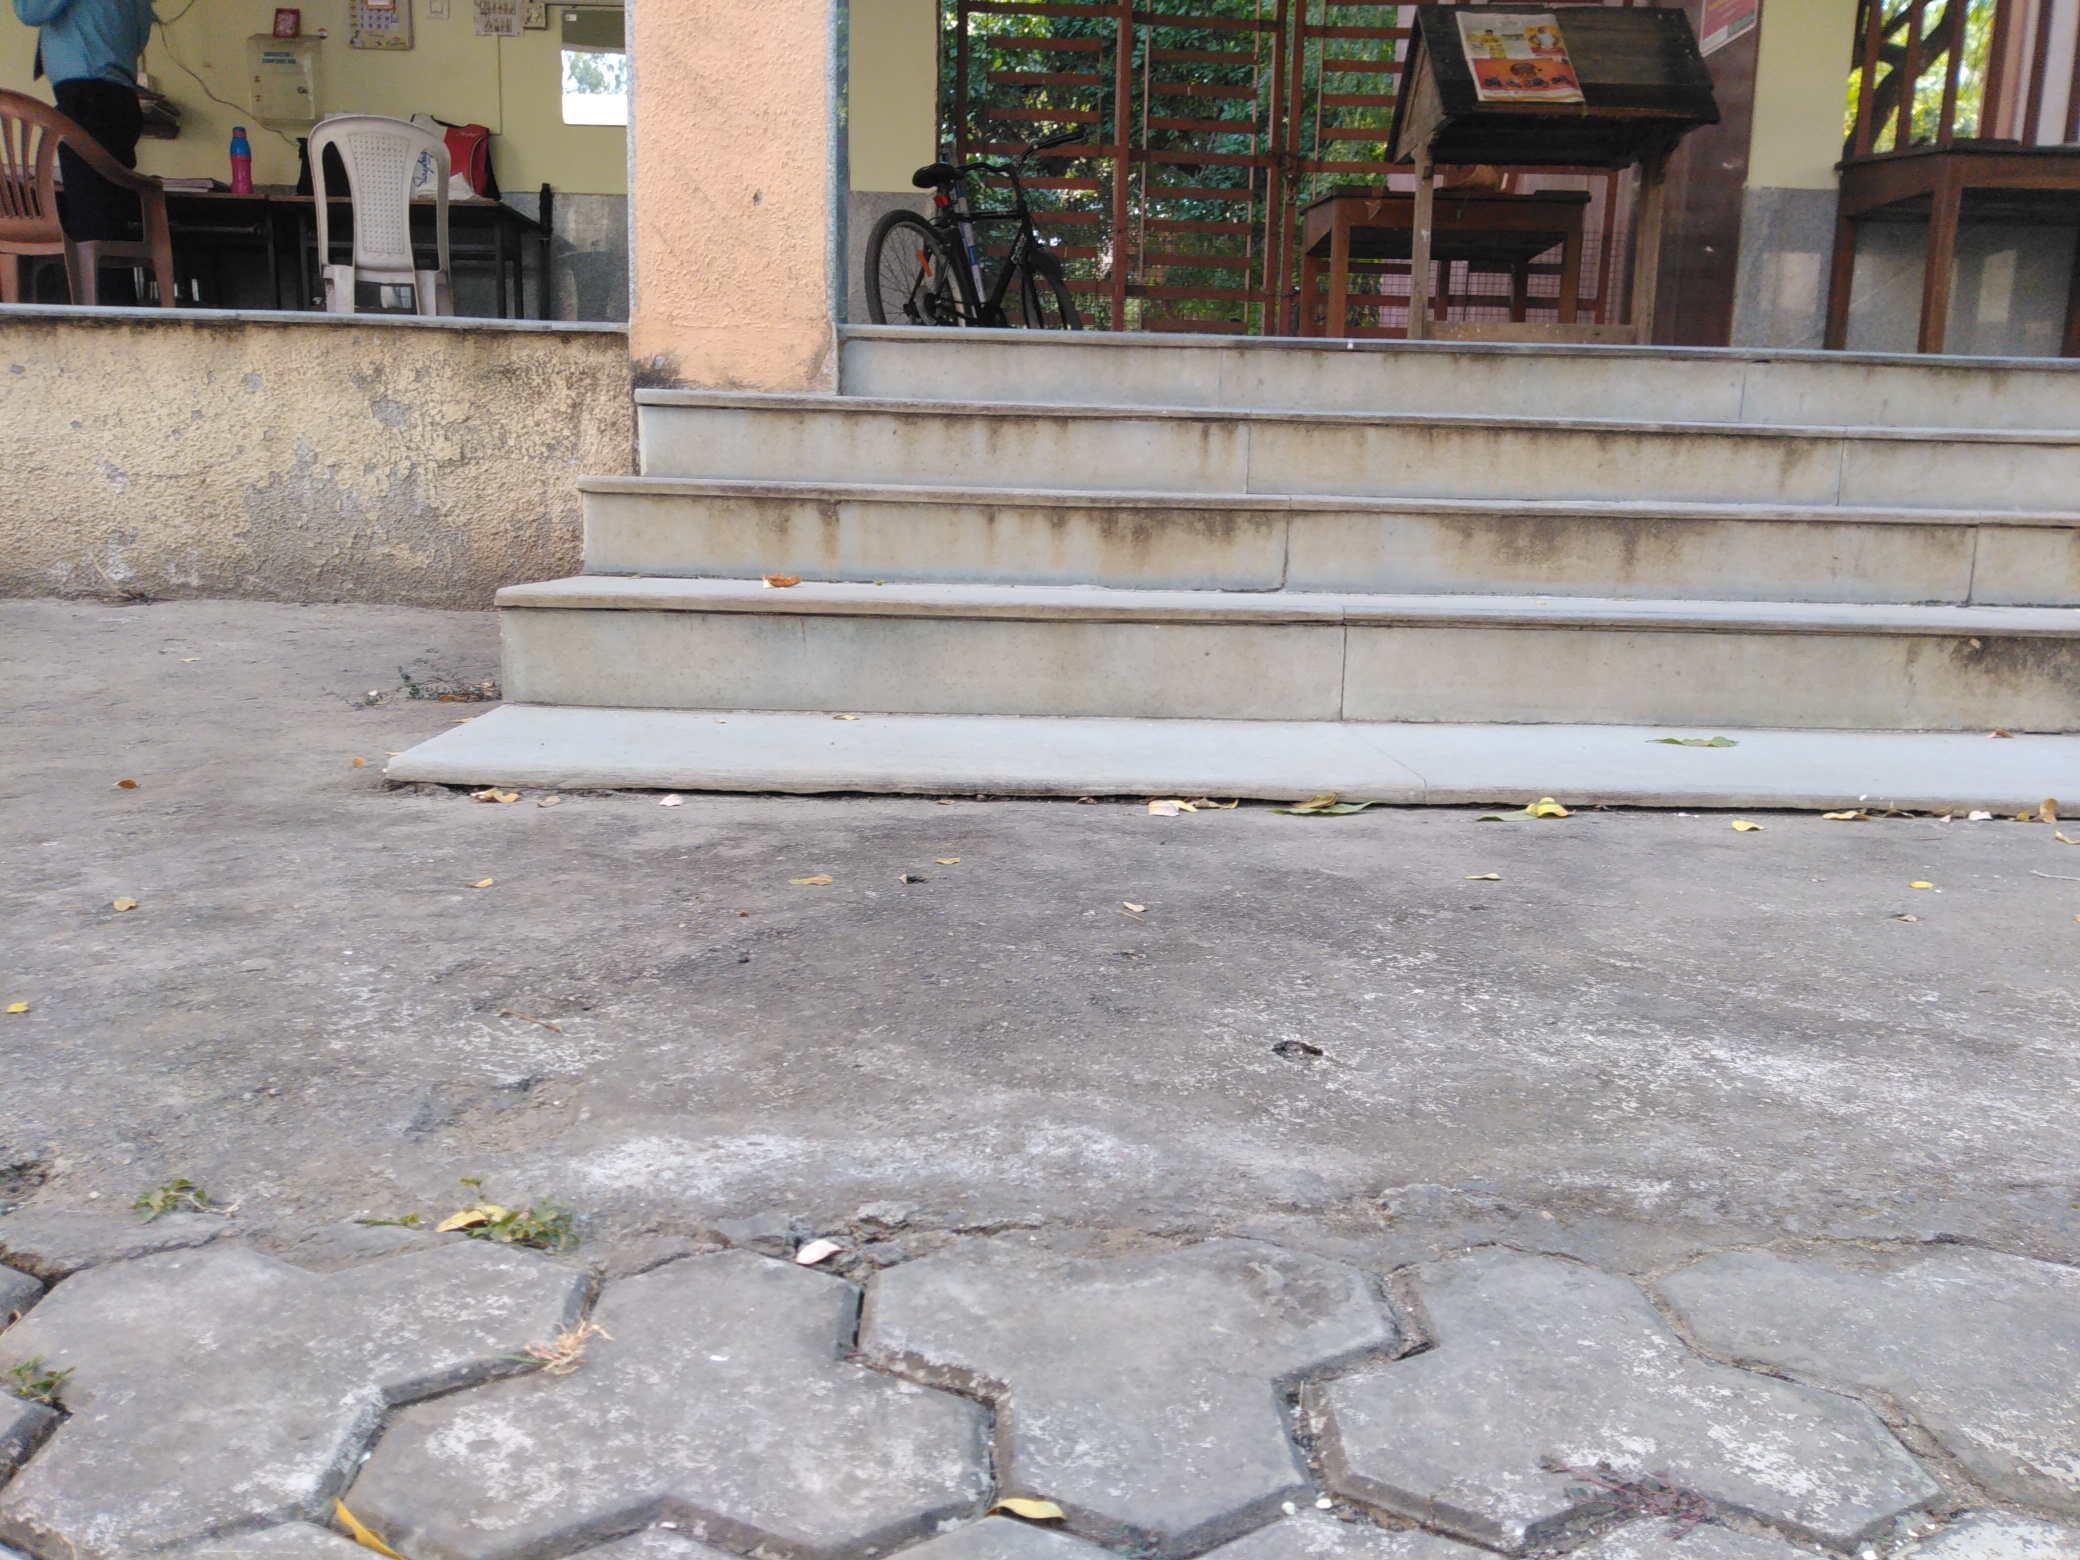stairs_up: (475, 306, 2047, 818)
